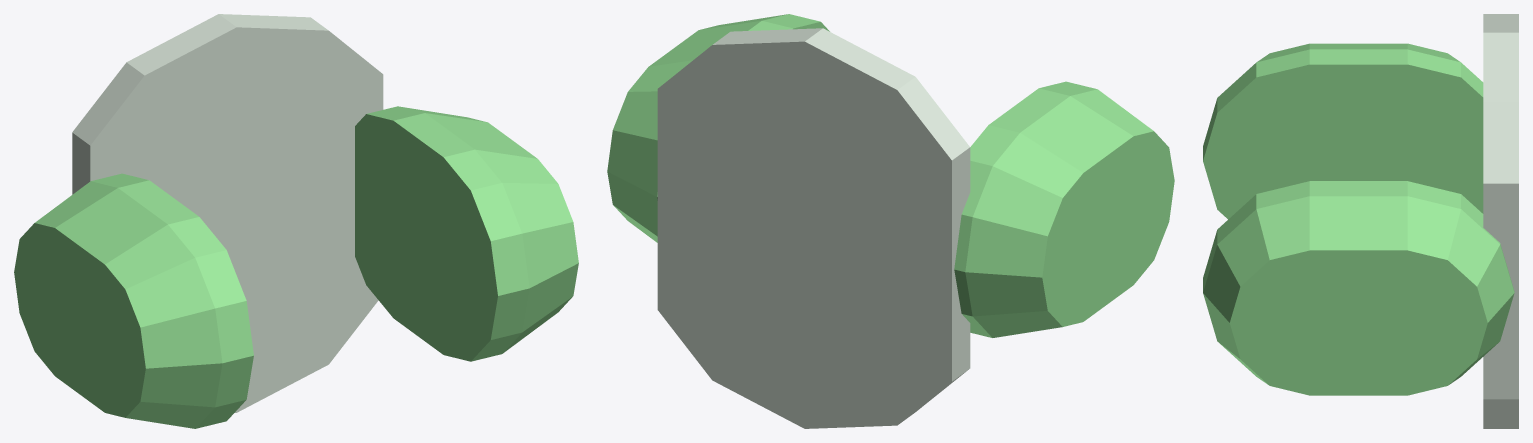
The picture shows the model from 3 angles, left to right: view 1: azimuth 30°, elevation 25°; view 2: azimuth 150°, elevation 25°; view 3: azimuth 270°, elevation 25°; orthographic projection. The views are drawn at different scales.
Visible parts, largest first — view 1: J1_LINK (×3); view 2: J1_LINK (×3); view 3: J1_LINK (×3).
Boxes of the visible parts, <box> form: J1_LINK (×3): <box>14,14,578,428</box>; J1_LINK (×3): <box>607,14,1174,428</box>; J1_LINK (×3): <box>1203,14,1518,428</box>.
Bounding box in the file's own units: 0.275 × 0.234 × 0.1775.
